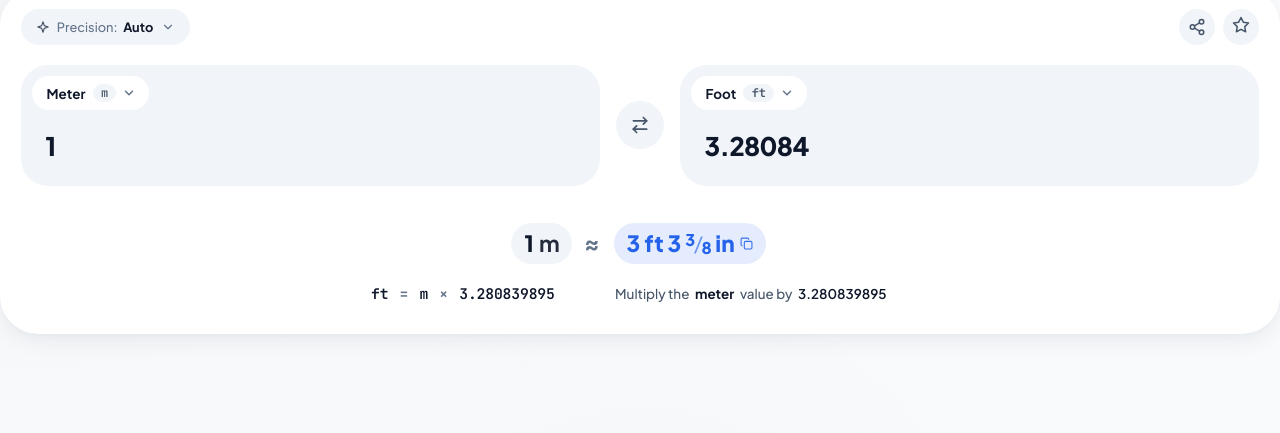
Test case: ConversionCard Component › opens From unit dropdown, filters units, and selects unit
The width and height of the screenshot is (1280, 433).
Click the button with aria-label "Current unit: Meter": point(90, 93) [32,76,149,110]
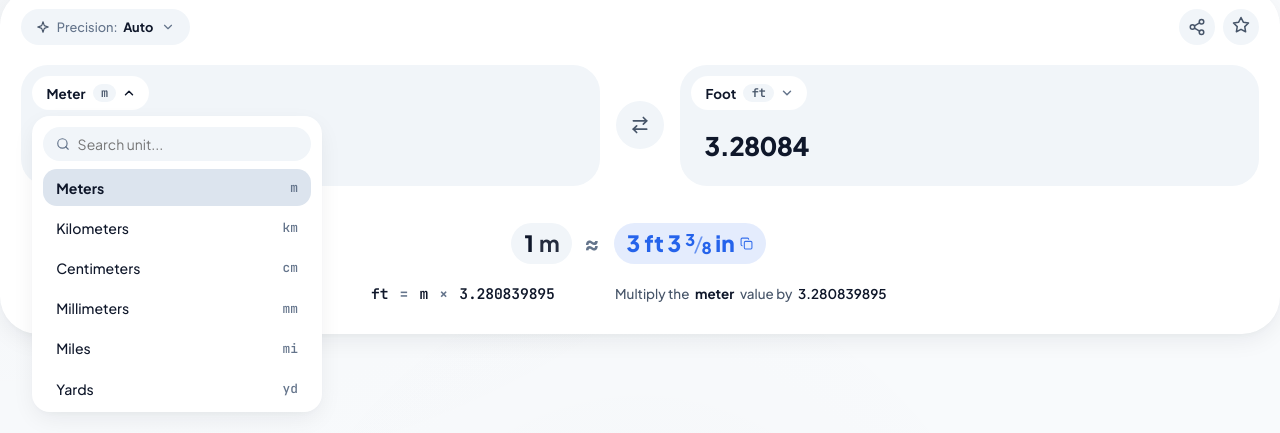
Expected: the button with aria-label "Current unit: Meter" is expanded, [32,76,149,110]
Expected: the field with placeholder "Search unit..." is shown
Filter units
In the field with placeholder "Search unit...": point(188, 144) [78,135,298,153], type "kilo"
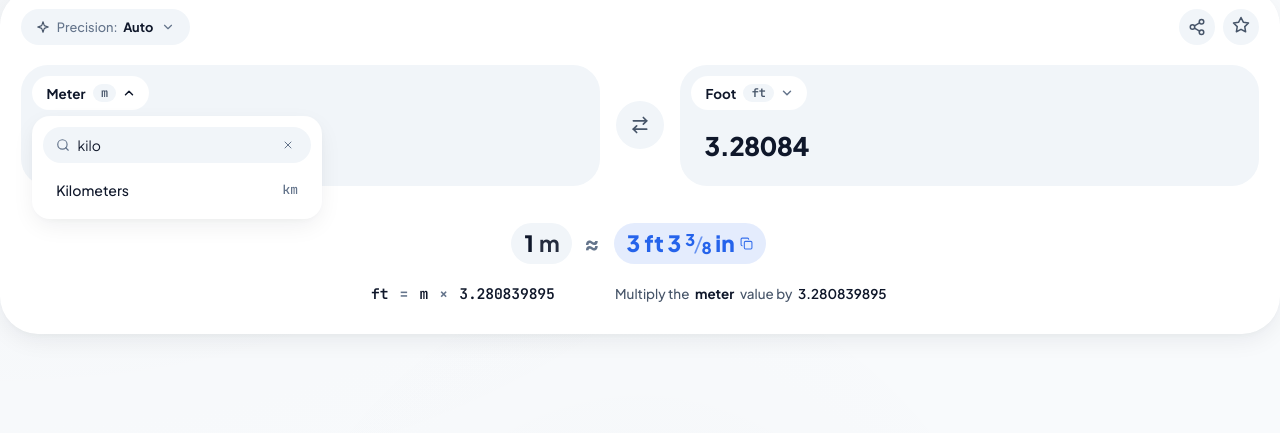
Expected: the text "Kilometers" is shown
Click the text "Kilometers": point(93, 190) [56,181,129,199]
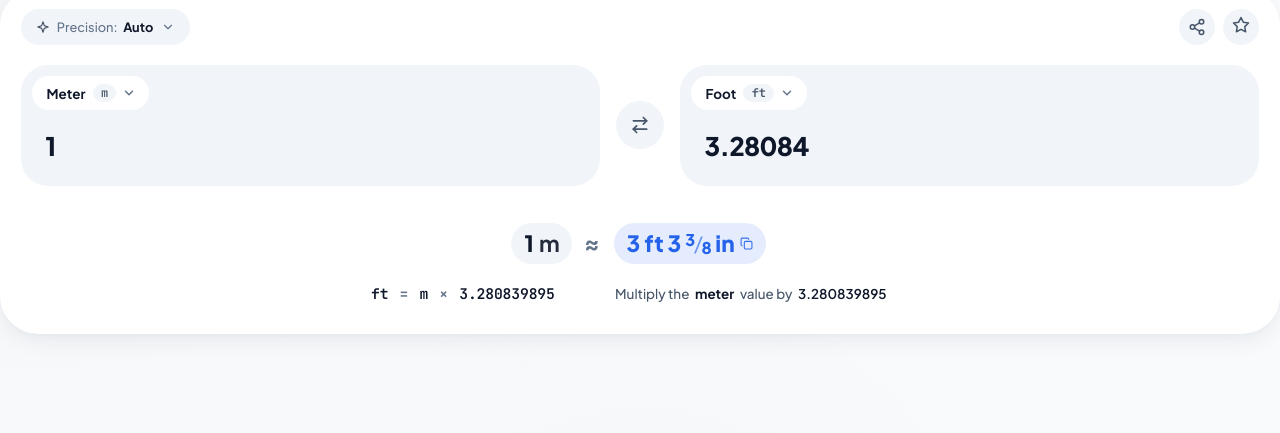
Expected: the button with aria-label "Current unit: Meter" is collapsed, [32,76,149,110]
